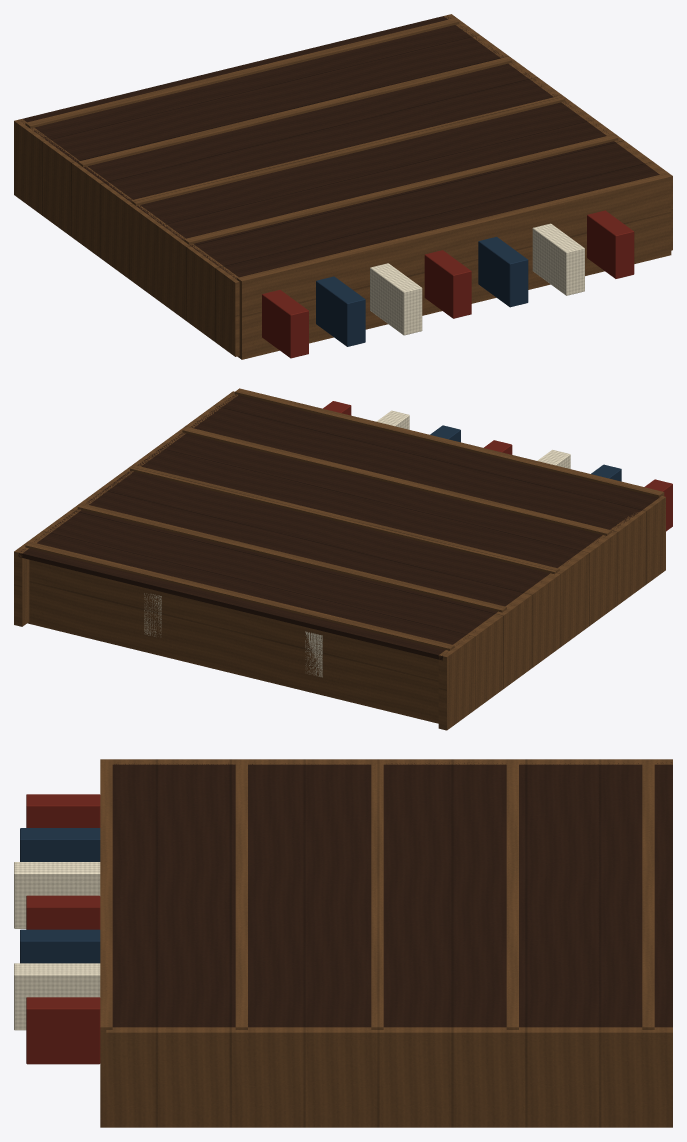
File: pantry_shelving.obj
3 views of the same model, one above another, from view 1: azimuth 30°, elevation 25°; view 2: azimuth 150°, elevation 25°; view 3: azimuth 270°, elevation 25° (orthographic). The views are drawn at different scales.
Visible parts, largest first — view 1: pantry_shelving_walnut, pantry_shelving_oak, pantry_shelving_bookred, pantry_shelving_linen, pantry_shelving_bookblue; view 2: pantry_shelving_walnut, pantry_shelving_oak, pantry_shelving_linen, pantry_shelving_bookred, pantry_shelving_bookblue; view 3: pantry_shelving_walnut, pantry_shelving_oak, pantry_shelving_bookred, pantry_shelving_linen, pantry_shelving_bookblue.
Boxes of the visible parts, x1,y1,x2,y2 form: pantry_shelving_walnut: (21,15,659,279); pantry_shelving_oak: (14,14,672,359); pantry_shelving_bookred: (262,210,634,358); pantry_shelving_linen: (370,223,584,335); pantry_shelving_bookblue: (316,236,528,346); pantry_shelving_walnut: (18,394,658,660); pantry_shelving_oak: (14,388,665,730); pantry_shelving_linen: (144,410,570,677); pantry_shelving_bookred: (323,401,672,531); pantry_shelving_bookblue: (430,425,621,481); pantry_shelving_walnut: (112,762,672,1027); pantry_shelving_oak: (100,759,672,1127); pantry_shelving_bookred: (26,794,100,1064); pantry_shelving_linen: (14,862,100,1030); pantry_shelving_bookblue: (20,828,100,963).
Size of the model in its own units: 105 by 18 by 107.
5 materials, 5 textured.
